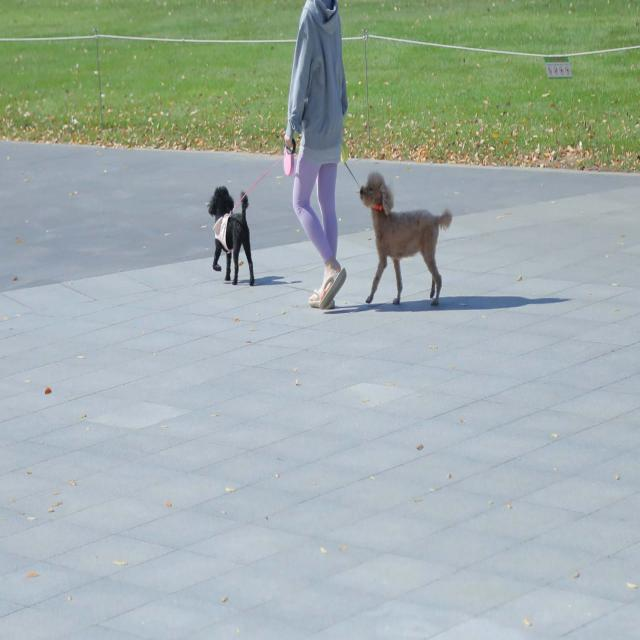Leashed_Dog: (330, 140, 453, 306), (208, 131, 311, 287)
